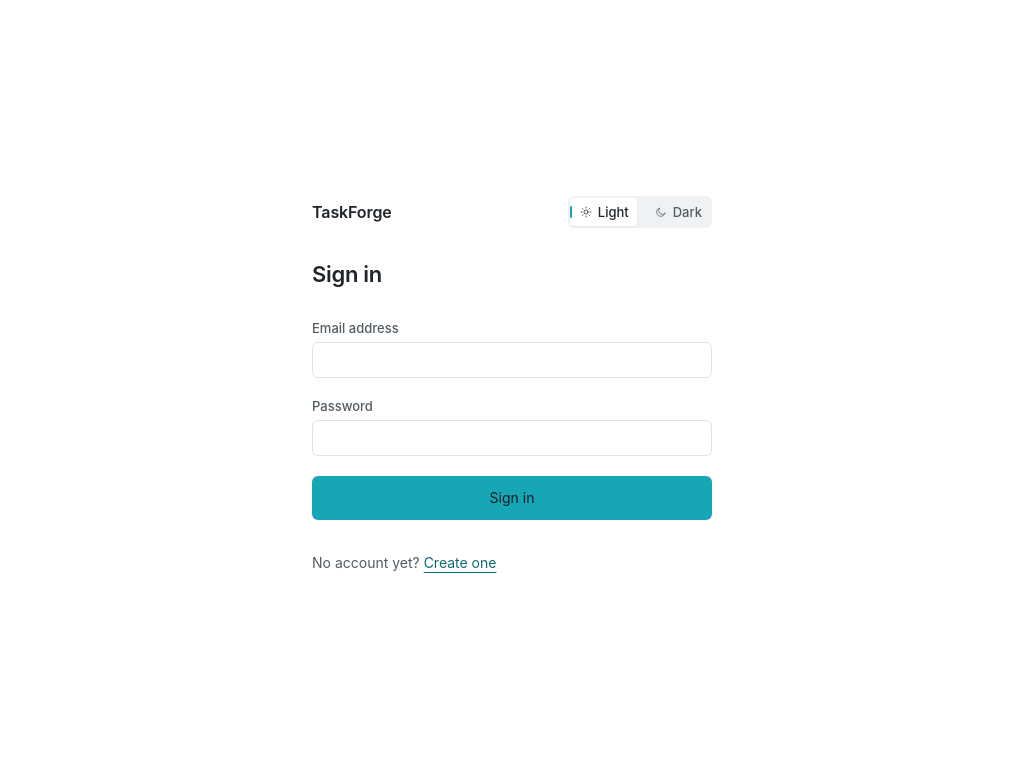
Scenario: workspace creation and switching › validates the workspace name on the field
This screenshot has width=1024, height=762.
Check: the heading "Sign in" is shown, box 312,260 -> 382,286
Click the link "Create one" at (460, 562), box 424,554 -> 496,570
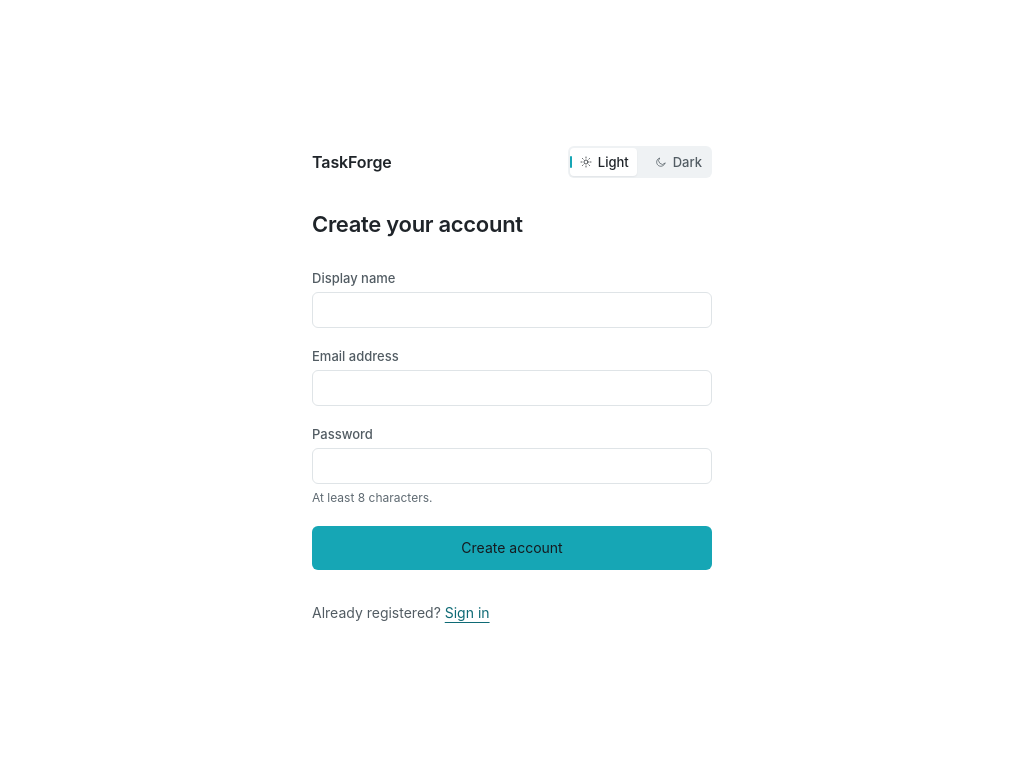
Type "Ada Lovelace" into the field labelled "Display name" at (512, 310), box 312,292 -> 712,328
Type "ada@example.com" into the field labelled "Email address" at (512, 388), box 312,370 -> 712,406
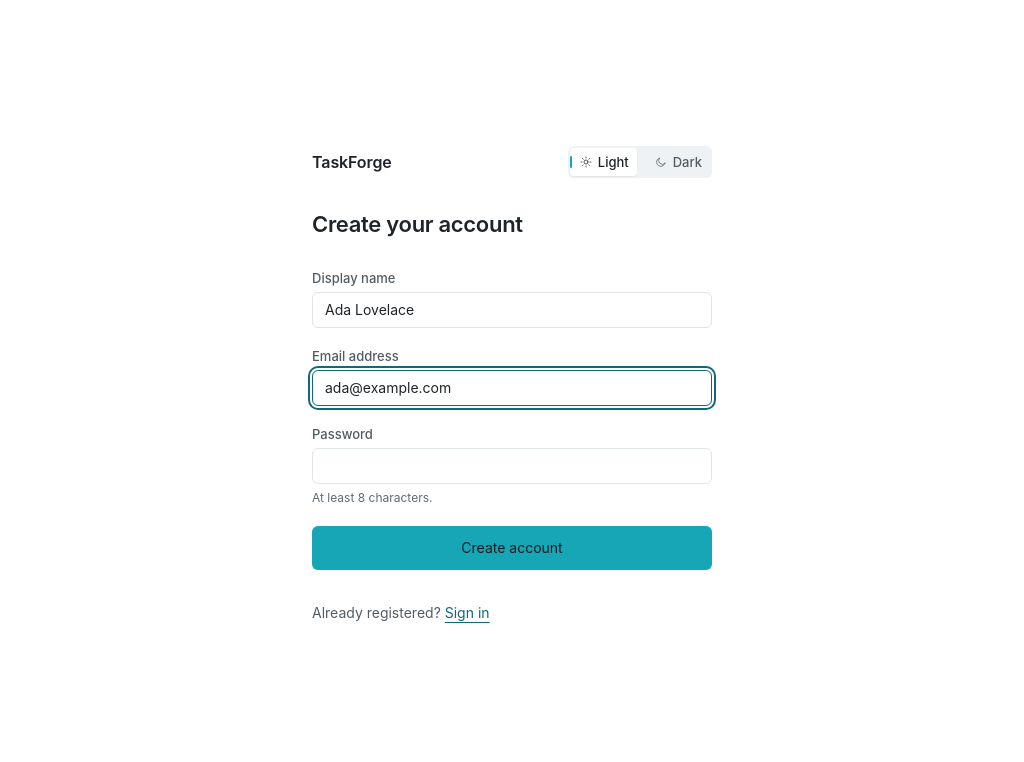
Type "a-good-password" into the password field labelled "Password" at (512, 466), box 312,448 -> 712,484
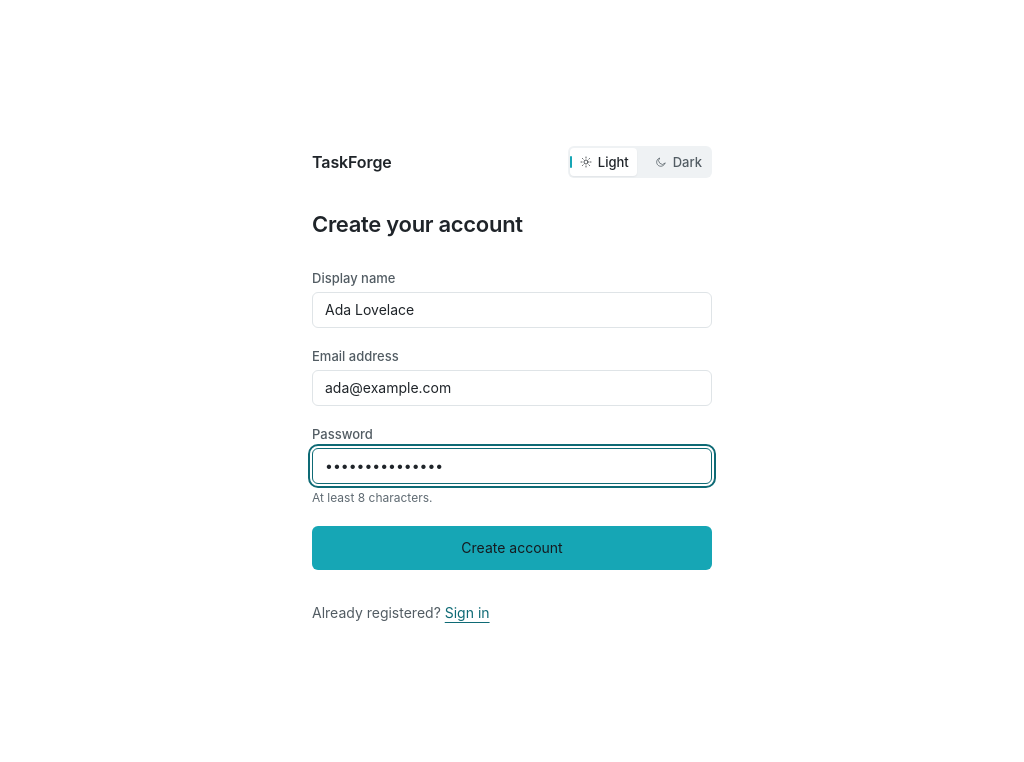
Click the button "Create account" at (512, 548), box 312,526 -> 712,570
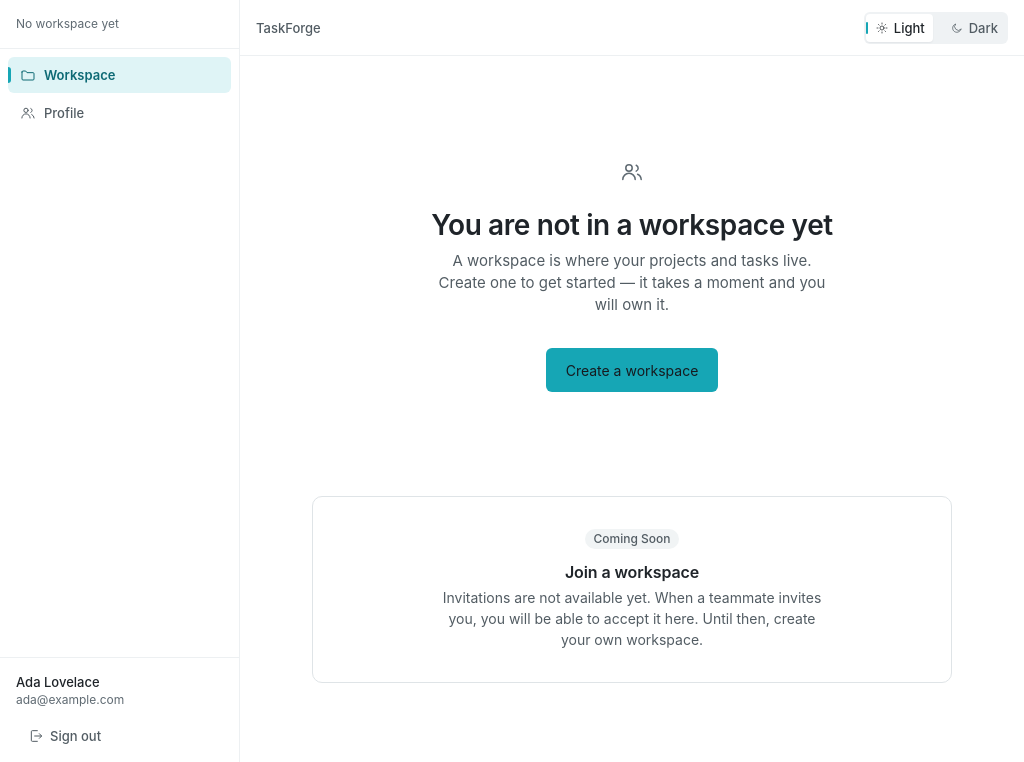
Click the button "Create a workspace" at (632, 370), box 546,348 -> 718,392
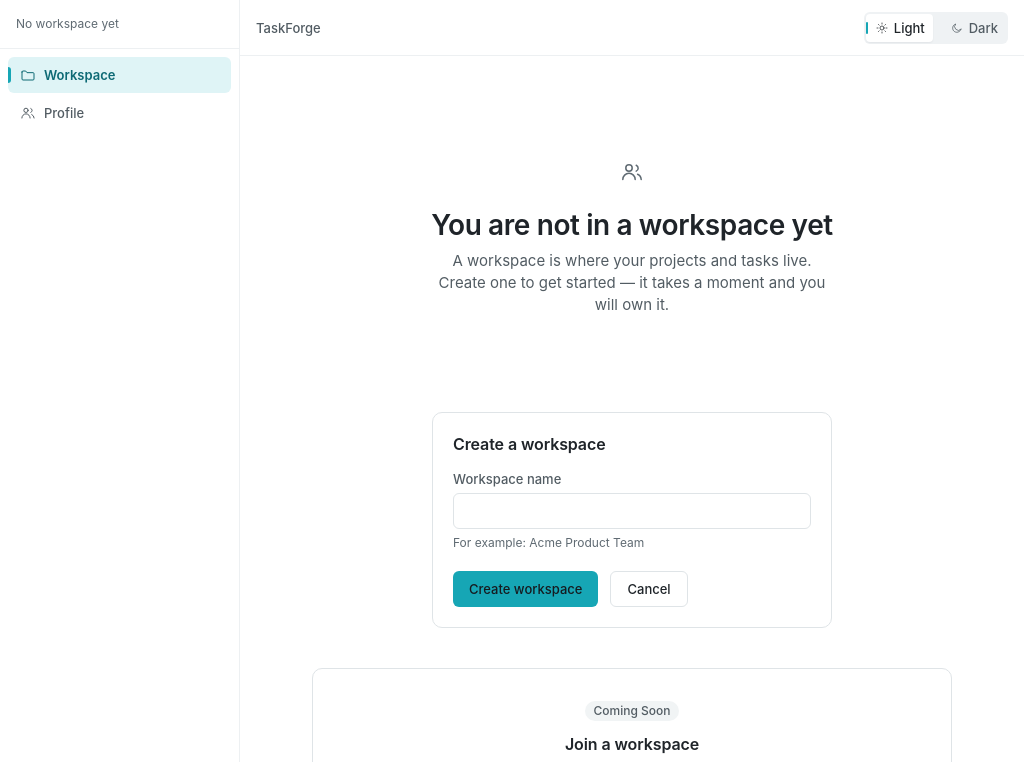
Click the button "Create workspace" at (526, 589), box 453,571 -> 598,607
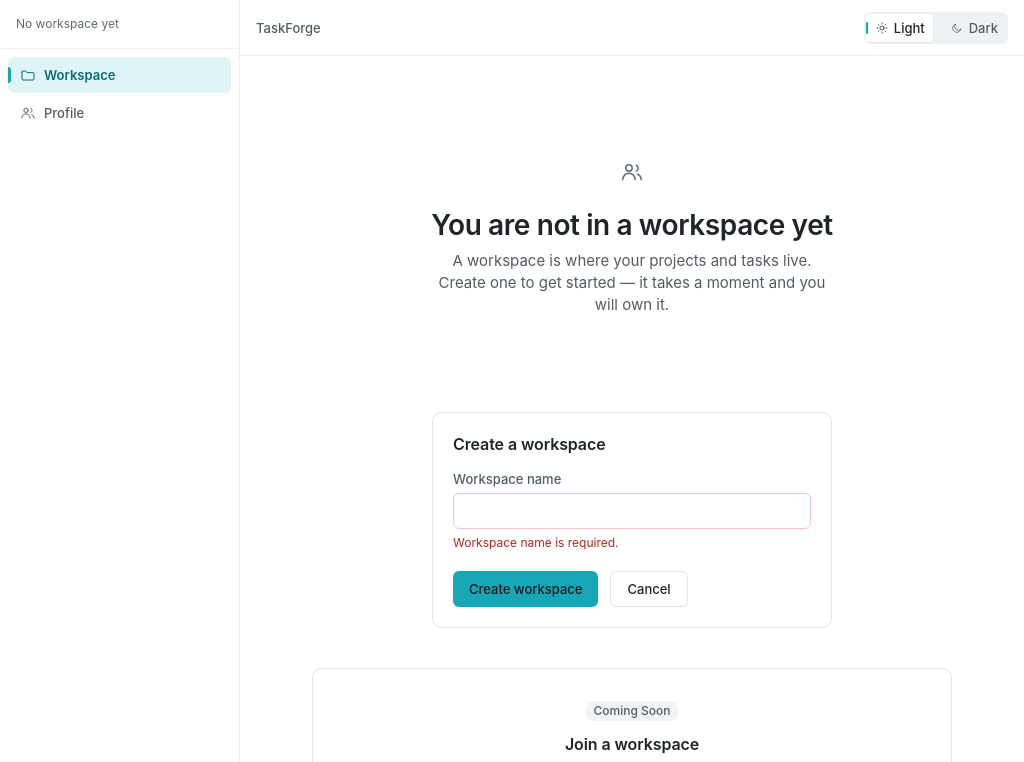
Check: the heading "Create a workspace" is shown, box 453,434 -> 606,454
Check: the text "Workspace name is required." is shown, box 453,535 -> 619,550
Check: the text "Acme" is gone
